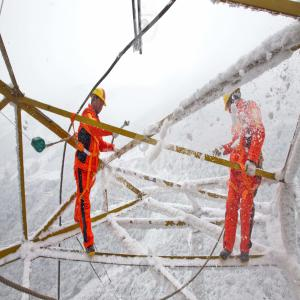yellow: (222, 88, 242, 115), (91, 88, 107, 116)
